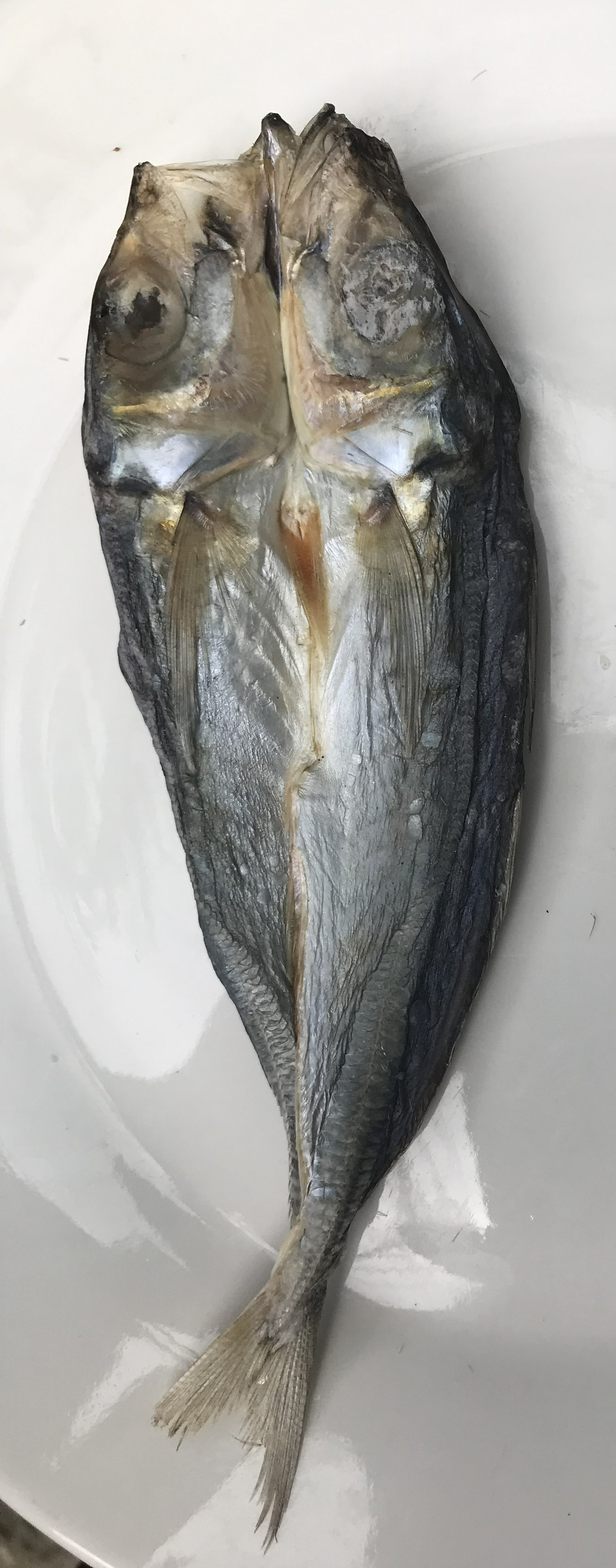barol_dried_: (81, 103, 560, 1548), (0, 1499, 93, 1568)
